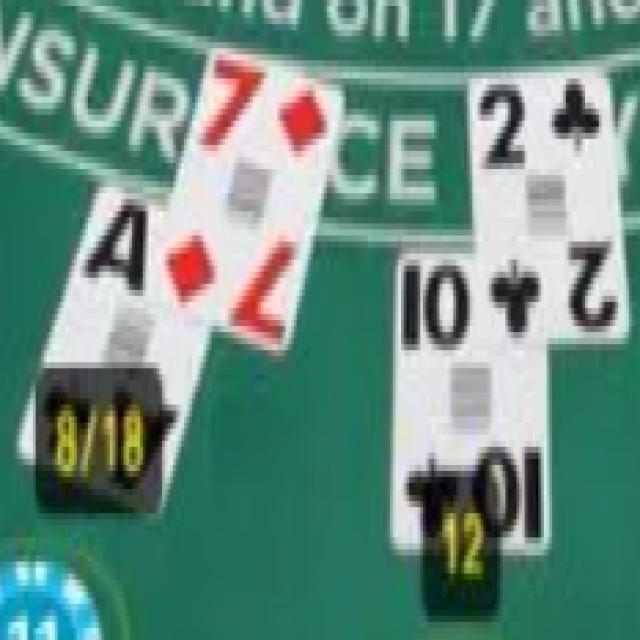Card-10: (388, 255, 549, 556)
Card-2: (470, 76, 628, 352)
Card-7: (155, 40, 343, 354)
Card-A: (19, 181, 211, 509)
